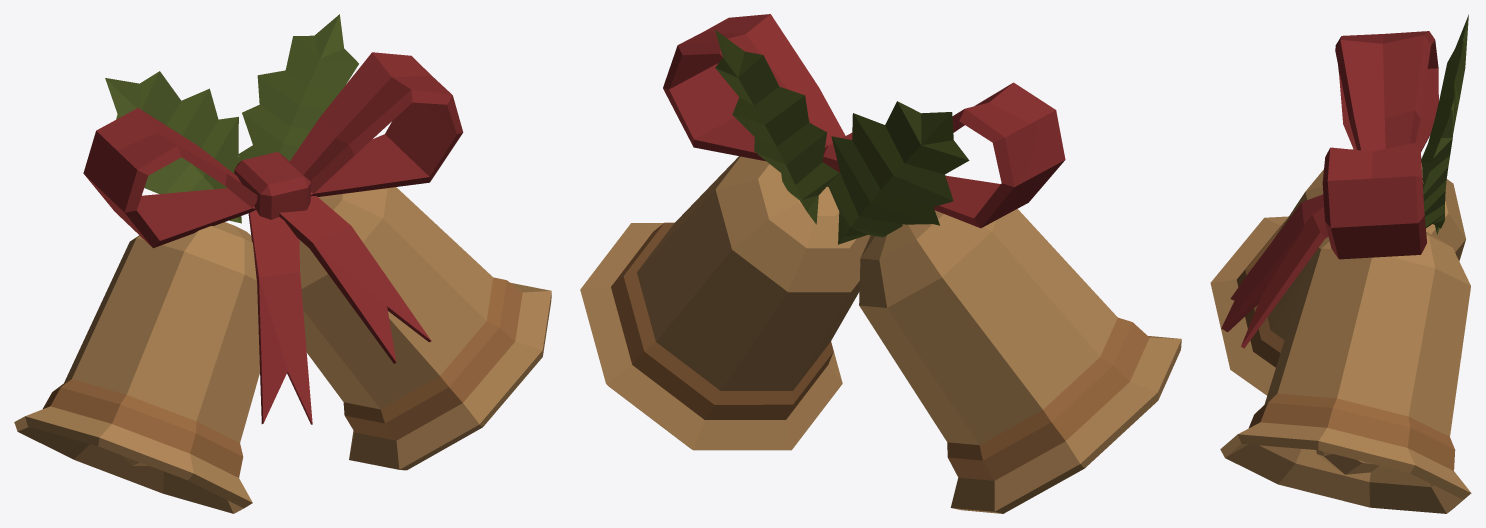
File: bell2.glb
The picture shows the model from 3 angles, left to right: view 1: azimuth 30°, elevation 25°; view 2: azimuth 150°, elevation 25°; view 3: azimuth 270°, elevation 25°; orthographic projection. The views are drawn at different scales.
Visible parts, largest first — view 1: bell_c_christmas; view 2: bell_c_christmas; view 3: bell_c_christmas.
Boxes of the visible parts, <box> form: bell_c_christmas: <box>14,14,551,513</box>; bell_c_christmas: <box>580,14,1181,513</box>; bell_c_christmas: <box>1210,14,1471,513</box>.
Bounding box in the file's own units: 0.3039 × 0.2365 × 0.1366.
Materials: 1 (1 with a texture image).
